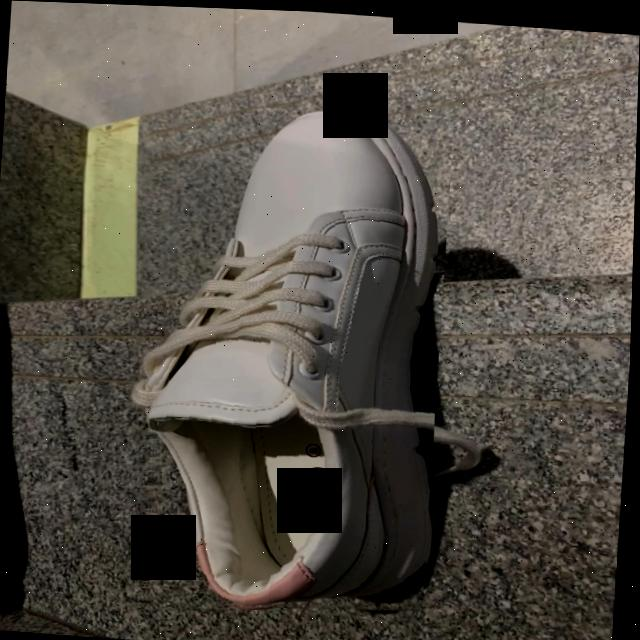shoe: (158, 107, 434, 607)
